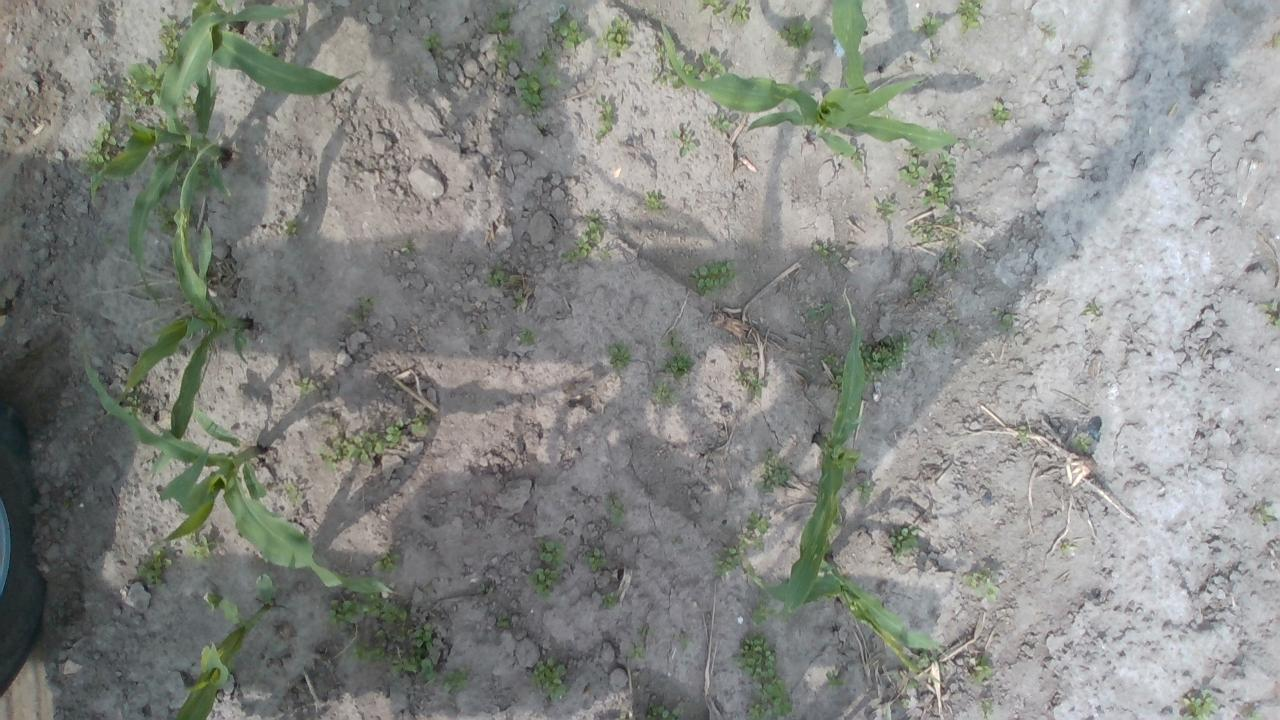Maize: (79, 344, 398, 598), (87, 4, 300, 307), (104, 139, 258, 476), (659, 22, 970, 159), (746, 536, 946, 688), (779, 303, 864, 625), (178, 0, 364, 100), (176, 573, 277, 720), (830, 0, 874, 93)
Weeds: (320, 430, 384, 469), (860, 335, 909, 384), (80, 122, 118, 178), (732, 633, 776, 680), (121, 62, 158, 109), (690, 258, 736, 295), (757, 448, 792, 496), (530, 656, 568, 700), (362, 590, 408, 625), (137, 546, 171, 592), (516, 68, 546, 117), (550, 10, 586, 50), (388, 653, 438, 681), (962, 568, 1002, 602), (350, 628, 386, 664), (738, 511, 768, 554), (758, 679, 792, 716), (599, 18, 632, 55), (778, 18, 816, 50), (398, 622, 433, 654), (889, 526, 920, 562), (494, 35, 524, 72), (528, 567, 562, 599), (328, 598, 363, 629), (1182, 691, 1218, 720), (592, 95, 614, 142), (158, 18, 180, 62), (184, 531, 216, 559), (155, 199, 179, 236), (920, 182, 951, 210), (663, 351, 694, 379), (713, 546, 740, 578), (958, 0, 984, 32), (670, 127, 698, 156), (897, 156, 925, 185), (650, 68, 686, 90), (486, 6, 514, 34), (563, 231, 590, 260), (734, 369, 764, 395), (702, 49, 726, 81), (536, 538, 562, 567), (606, 340, 632, 368), (121, 388, 145, 417), (927, 329, 960, 350), (440, 668, 471, 690), (937, 148, 956, 182), (604, 495, 624, 527), (918, 14, 942, 40), (374, 552, 402, 574), (386, 414, 404, 448), (646, 703, 681, 720), (750, 608, 784, 625), (534, 47, 558, 71), (587, 214, 606, 243), (990, 100, 1010, 127), (806, 302, 833, 322), (487, 257, 505, 287), (909, 270, 928, 298), (910, 222, 934, 244), (973, 656, 994, 681), (730, 0, 749, 27), (856, 478, 874, 505), (173, 159, 191, 186), (694, 0, 724, 16), (256, 35, 280, 55), (510, 276, 525, 306), (993, 310, 1014, 331), (680, 58, 700, 80), (586, 548, 606, 570), (409, 414, 431, 434), (941, 252, 961, 273), (351, 298, 368, 322), (710, 111, 731, 130), (1256, 504, 1275, 524), (196, 172, 210, 199), (422, 31, 441, 50), (877, 102, 896, 121), (202, 590, 221, 609), (520, 327, 538, 347), (644, 191, 664, 209), (294, 376, 316, 392), (916, 650, 936, 667), (746, 703, 766, 720), (878, 200, 896, 218), (802, 63, 819, 82), (89, 80, 108, 97), (746, 564, 761, 585), (654, 384, 672, 401), (1074, 435, 1092, 452), (1077, 58, 1094, 76), (825, 672, 842, 689), (284, 486, 300, 504), (602, 592, 618, 610), (904, 144, 926, 157), (833, 366, 843, 393), (654, 44, 668, 63), (544, 74, 562, 88), (1015, 426, 1029, 444), (283, 218, 297, 236), (852, 150, 864, 170), (941, 209, 955, 226), (624, 646, 641, 660), (813, 242, 828, 257), (183, 96, 196, 113), (980, 700, 991, 720), (478, 582, 496, 594), (496, 615, 511, 629), (824, 352, 838, 366), (1260, 300, 1276, 312), (401, 242, 414, 256), (1060, 541, 1072, 555), (1043, 22, 1057, 34), (1084, 302, 1097, 314), (670, 335, 680, 350), (906, 678, 919, 688), (1270, 316, 1280, 328), (1250, 712, 1264, 720), (639, 626, 650, 636), (1273, 34, 1280, 47), (600, 249, 610, 258), (899, 697, 909, 705), (931, 56, 940, 64)
